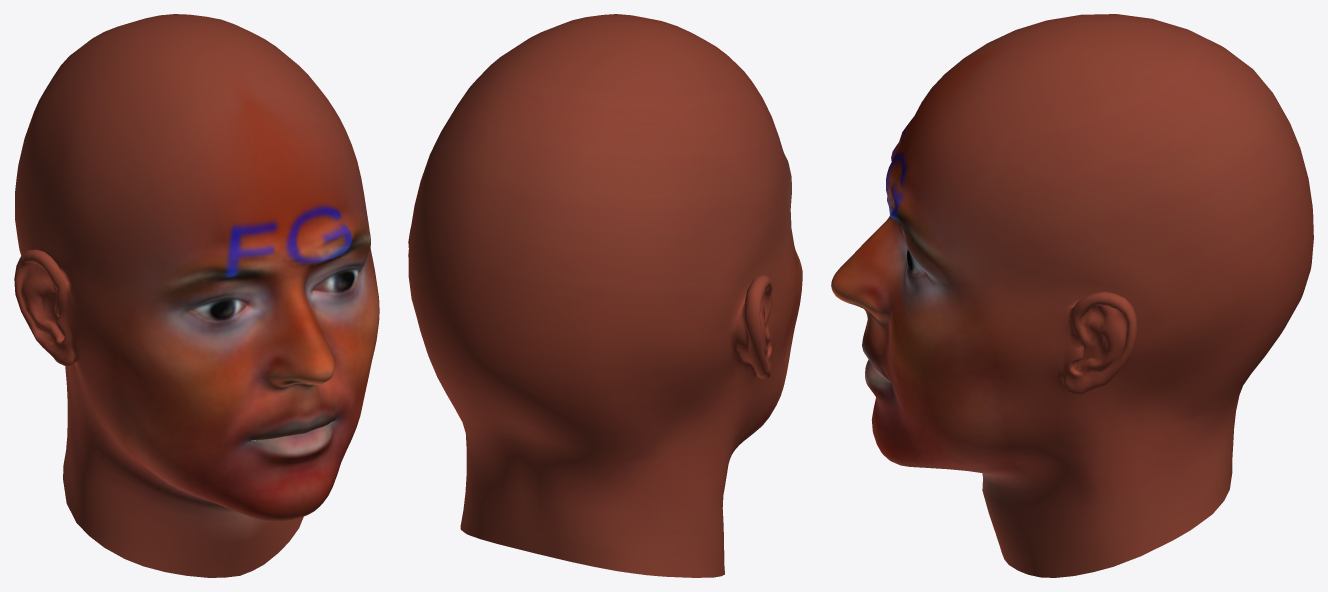
The model's file is avg_anyrace_female_16.obj.
3 views of the same model, side by side, from view 1: azimuth 30°, elevation 25°; view 2: azimuth 150°, elevation 25°; view 3: azimuth 270°, elevation 25° (orthographic). The views are drawn at different scales.
Parts seen in each view (by area): view 1: HeadHires; view 2: HeadHires; view 3: HeadHires.
Boxes of the visible parts, x1,y1,x2,y2 form: HeadHires: (14,14,379,577); HeadHires: (408,14,802,577); HeadHires: (831,14,1313,577).
Size of the model in its own units: 189 by 282 by 236.
Materials: 1 (1 with a texture image).
